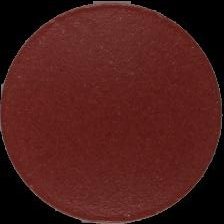66267-019: (0, 0, 224, 224)
